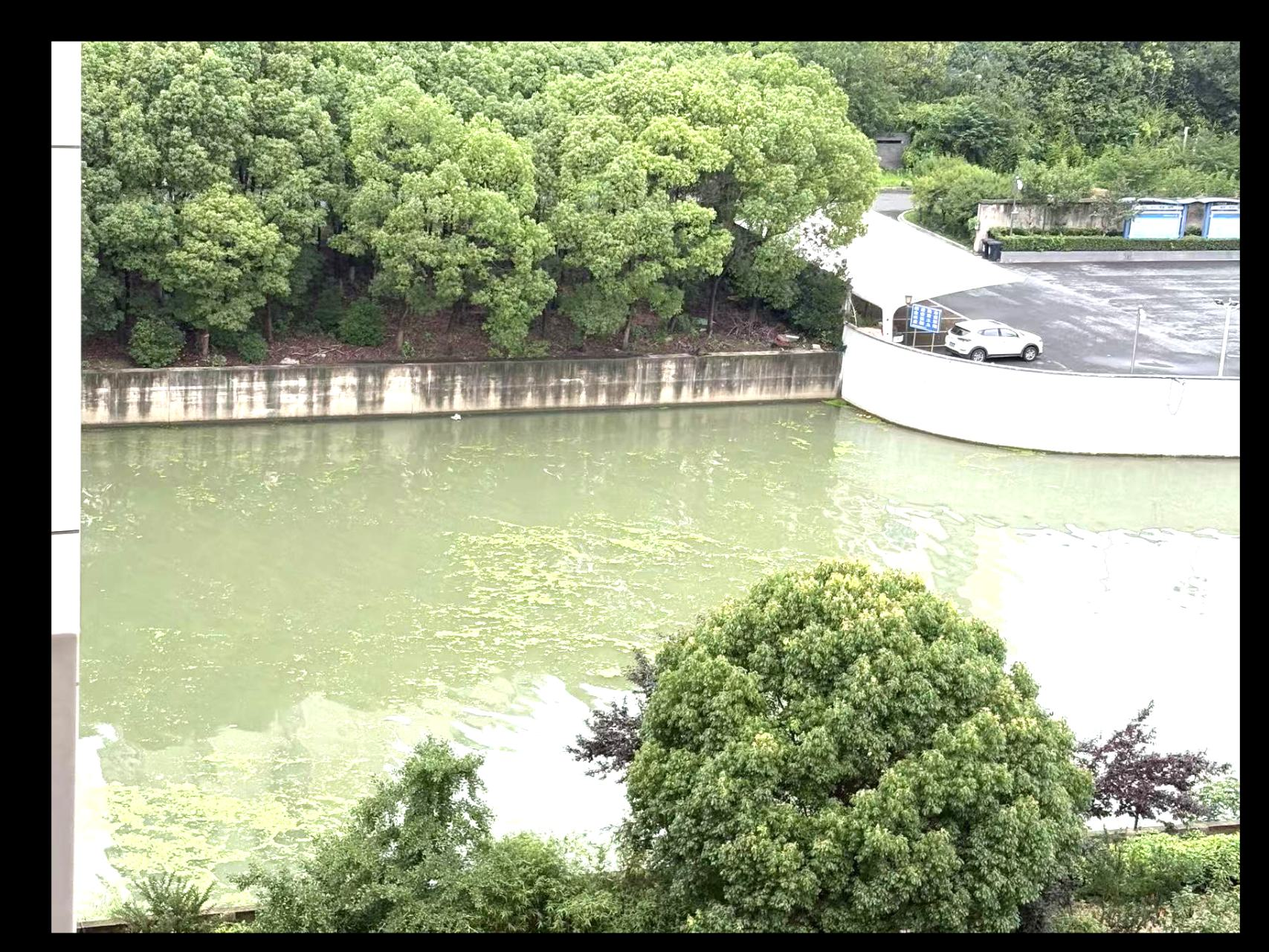Other: (460, 527, 709, 573), (445, 573, 578, 659), (85, 787, 336, 828), (109, 828, 210, 872)
Plastic wastes: (451, 414, 461, 419), (856, 414, 871, 417)
